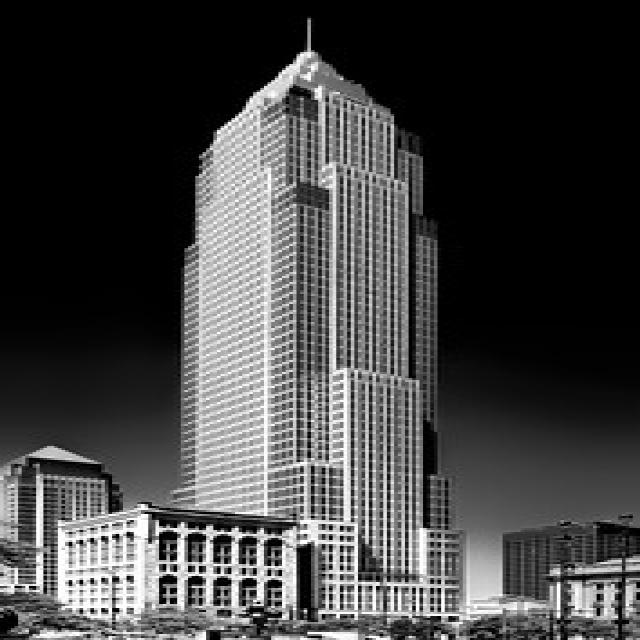Normal_building: (168, 40, 468, 632), (2, 442, 128, 630)
